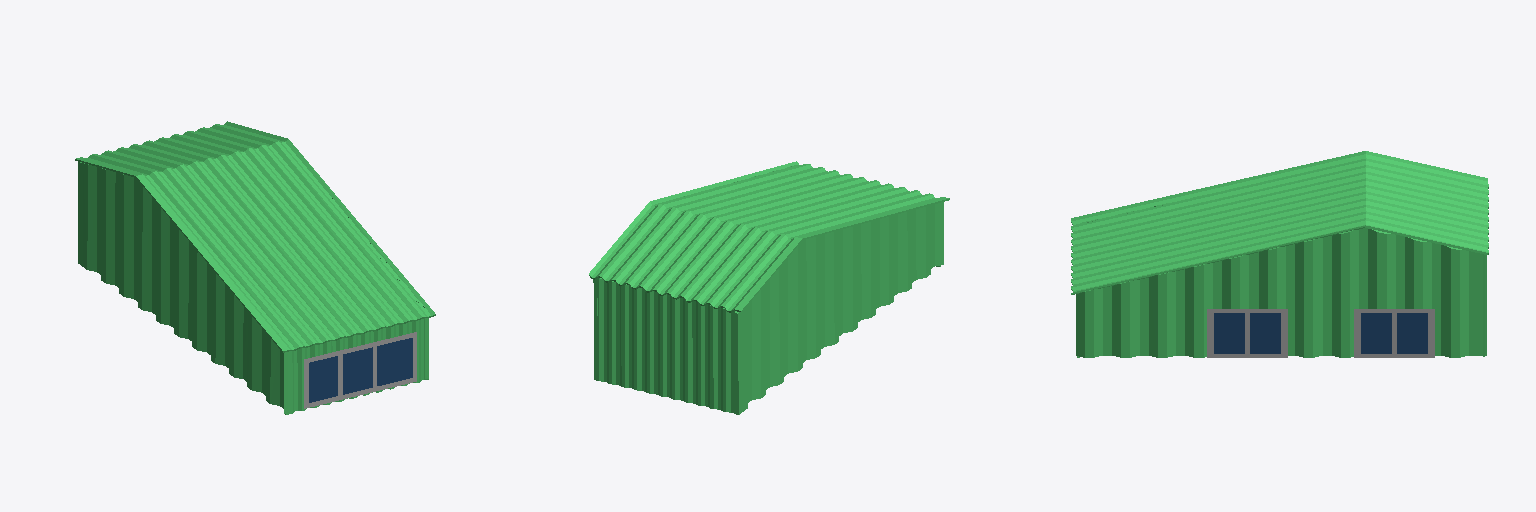
The model's file is illegal_floor.obj.
3 views of the same model, side by side, from view 1: azimuth 30°, elevation 25°; view 2: azimuth 150°, elevation 25°; view 3: azimuth 270°, elevation 25° (orthographic).
Parts seen in each view (by area): view 1: illegal_floor_Plane.008; view 2: illegal_floor_Plane.008; view 3: illegal_floor_Plane.008.
Part boxes in pixels (x1,y1,x2,y2): illegal_floor_Plane.008: (75,121,435,414); illegal_floor_Plane.008: (589,161,949,414); illegal_floor_Plane.008: (1071,151,1488,357).
Size of the model in its own units: 1.99 by 1.66 by 4.65.